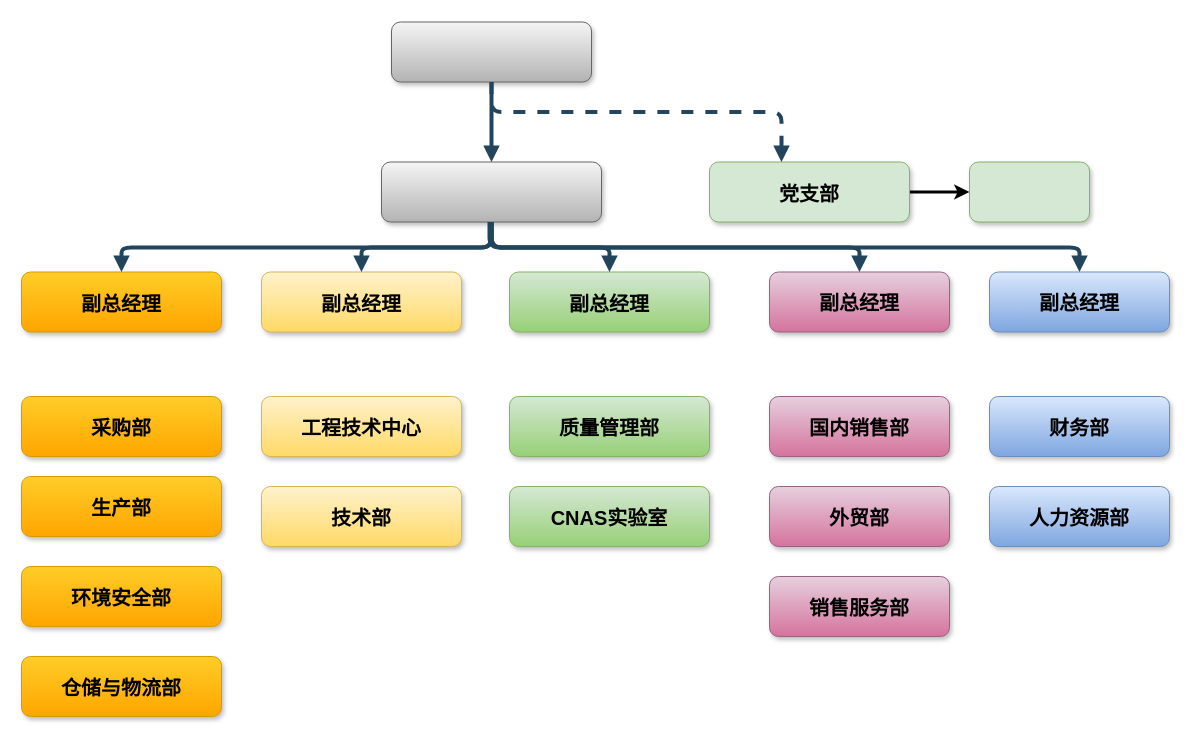
This 1193x741 diagram has some shape labels left out. The shapes that lost their labels are listed below. From the top down, each one's centre as x and y in pixels, then its label:
pixel 492 53: 董事会
pixel 492 193: 董事长兼总经理
pixel 1030 193: 工会
